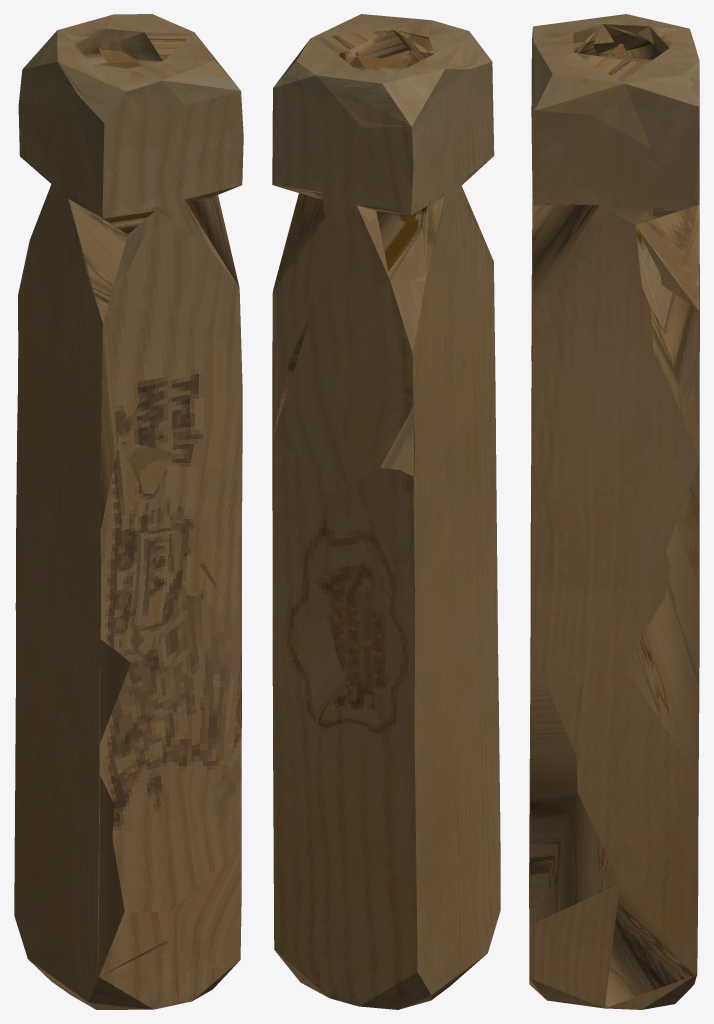
Rendered from item_train_whistle.glb.
3 renders of one model, left to right at view 1: azimuth 30°, elevation 25°; view 2: azimuth 150°, elevation 25°; view 3: azimuth 270°, elevation 25°, orthographic.
Visible parts, largest first — view 1: LPtrainWhistle; view 2: LPtrainWhistle; view 3: LPtrainWhistle.
Boxes of the visible parts, left/top/right/bottom form: LPtrainWhistle: left=14, top=14, right=243, bottom=1009; LPtrainWhistle: left=272, top=14, right=500, bottom=1009; LPtrainWhistle: left=529, top=14, right=699, bottom=1009.
Size of the model in its own units: 0.0337 by 0.203 by 0.0337.
Materials: 1 (1 with a texture image).
